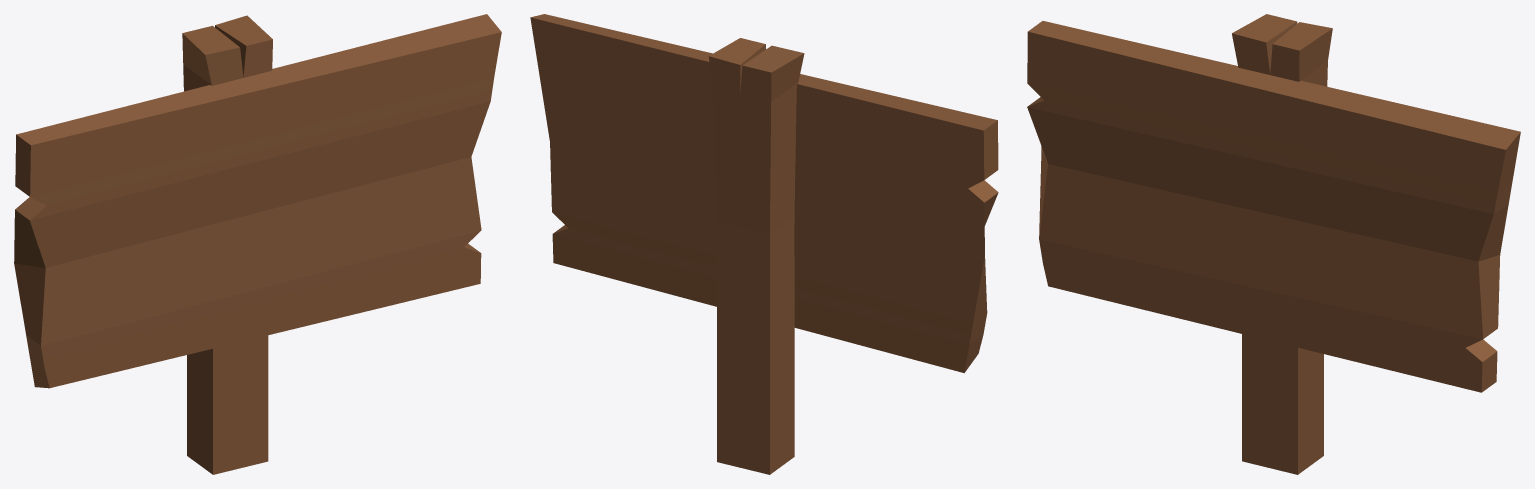
Rendered from Done_Panel.glb.
3 renders of one model, left to right at view 1: azimuth 30°, elevation 25°; view 2: azimuth 150°, elevation 25°; view 3: azimuth 330°, elevation 25°, orthographic. The views are drawn at different scales.
Parts seen in each view (by area): view 1: Panel; view 2: Panel; view 3: Panel.
Part boxes in pixels (box(x1,y1,x2,y2)): Panel: box(14, 14, 501, 474); Panel: box(530, 14, 998, 474); Panel: box(1027, 14, 1520, 474).
Bounding box in the file's own units: 1.09 × 0.9341 × 0.1718.
